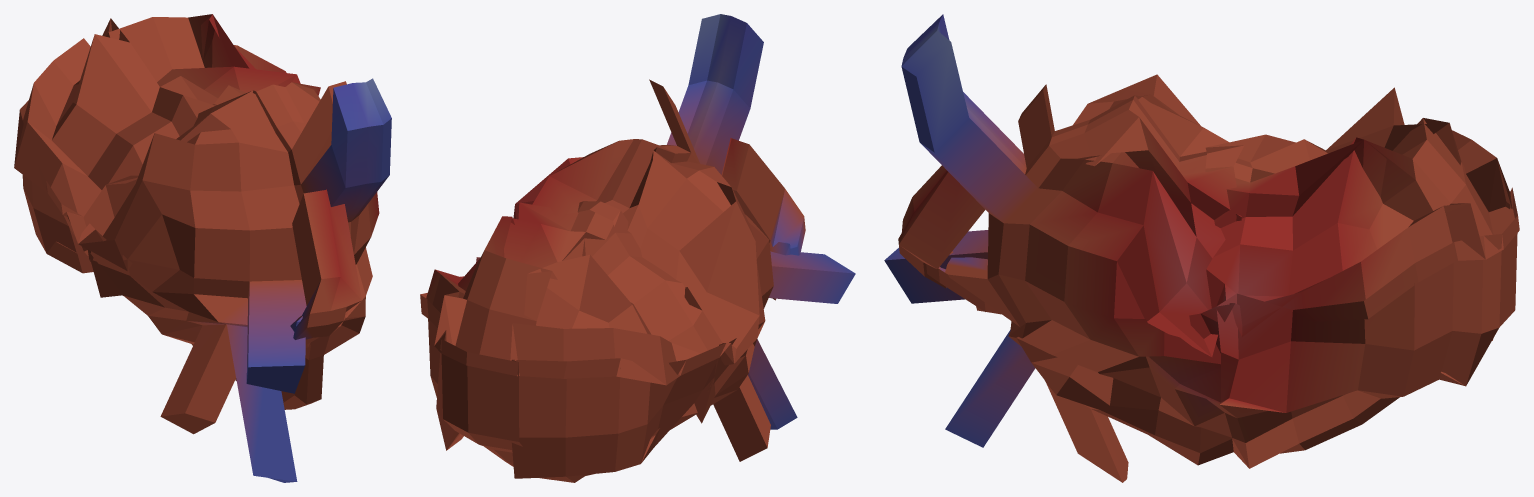
File: corazon.fbx
3 views of the same model, side by side, from view 1: azimuth 30°, elevation 25°; view 2: azimuth 150°, elevation 25°; view 3: azimuth 270°, elevation 25° (orthographic). The views are drawn at different scales.
Parts seen in each view (by area): view 1: Cube.001; view 2: Cube.001; view 3: Cube.001.
Part boxes in pixels (x1,y1,x2,y2): Cube.001: (14, 14, 391, 482); Cube.001: (420, 14, 855, 482); Cube.001: (884, 14, 1519, 482).
Size of the model in its own units: 24.37 by 33.32 by 42.37.
